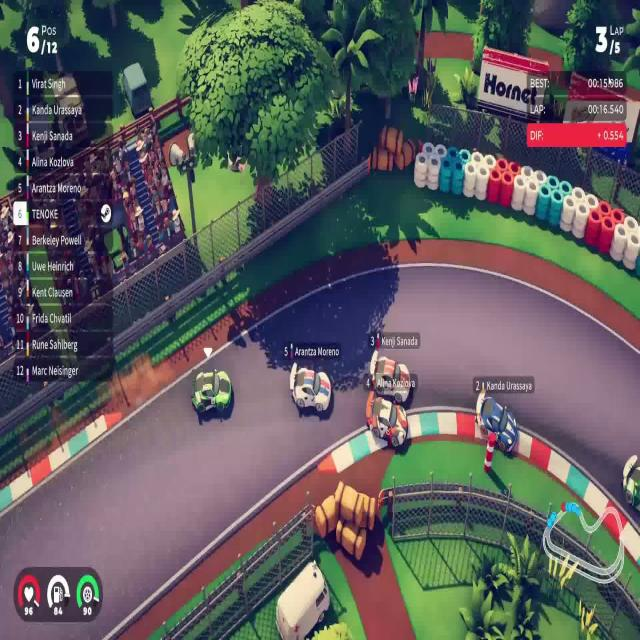car: (478, 392, 518, 457), (365, 390, 408, 450), (288, 360, 332, 414), (369, 351, 411, 403), (191, 367, 232, 416)
